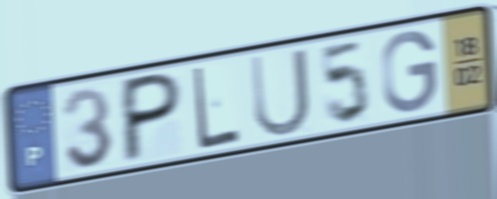3: (58, 82, 116, 172)
5: (317, 35, 373, 127)
G: (379, 27, 440, 117)
L: (190, 63, 243, 153)
P: (119, 68, 186, 168)
U: (247, 44, 314, 142)
